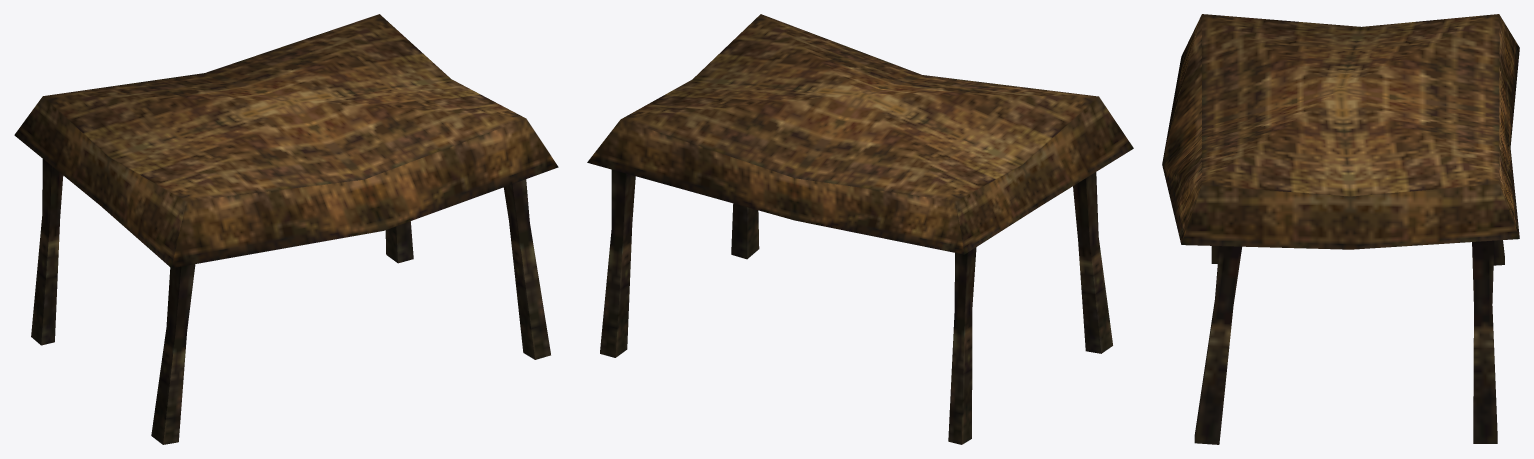
File: b_general_obj_07_01.glb
3 renders of one model, left to right at view 1: azimuth 30°, elevation 25°; view 2: azimuth 150°, elevation 25°; view 3: azimuth 270°, elevation 25°, orthographic. The views are drawn at different scales.
Parts seen in each view (by area): view 1: B_general_obj_06; view 2: B_general_obj_06; view 3: B_general_obj_06.
Boxes of the visible parts, left/top/right/bottom form: B_general_obj_06: left=14, top=14, right=558, bottom=444; B_general_obj_06: left=587, top=14, right=1133, bottom=444; B_general_obj_06: left=1162, top=14, right=1519, bottom=444.
Size of the model in its own units: 4.57 by 2.85 by 3.54.
1 material, 1 textured.
